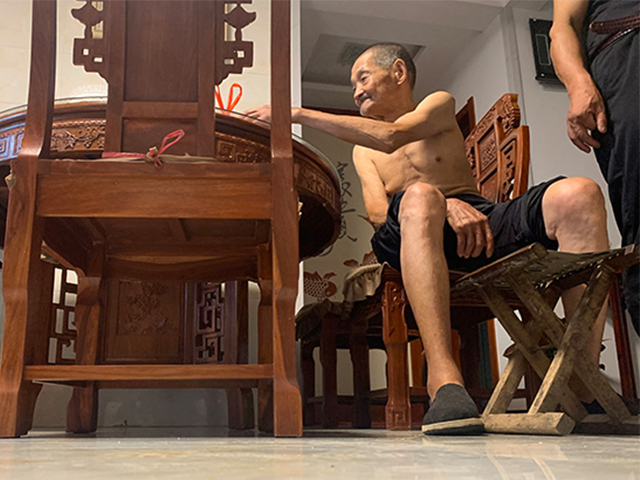stool: (1, 1, 304, 437), (455, 243, 640, 437)
table: (1, 96, 345, 433)
